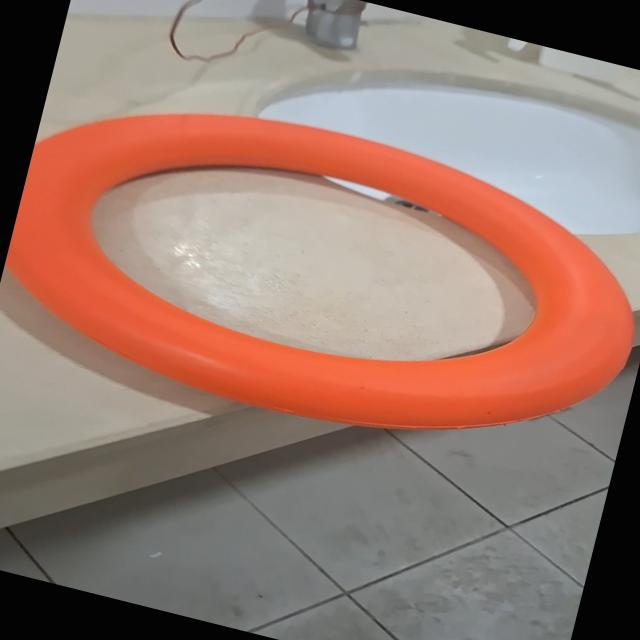note: (0, 60, 640, 493)
